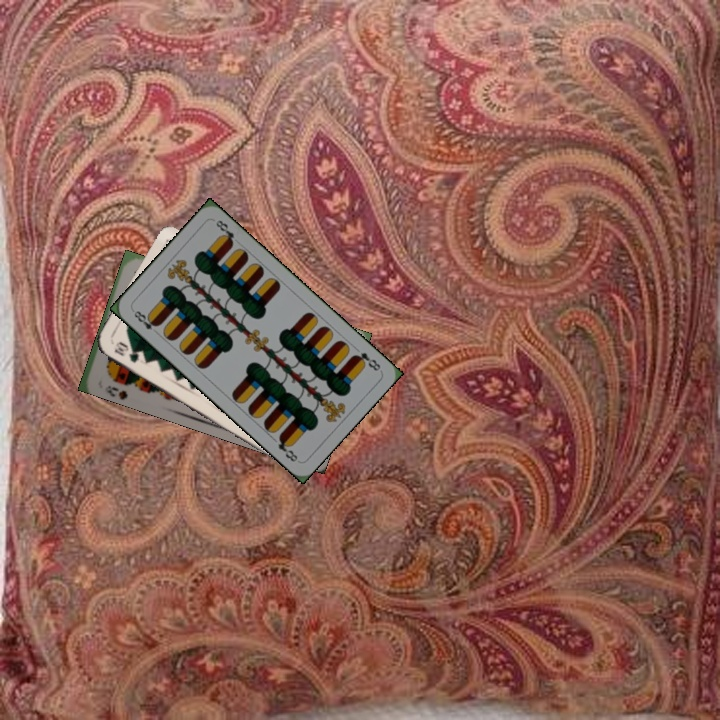E8: (129, 306, 162, 337), (348, 348, 383, 374)
G10: (109, 338, 142, 365)
S8: (101, 381, 130, 401)
